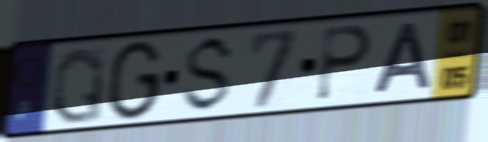7: (247, 26, 300, 112)
A: (370, 19, 434, 97)
G: (104, 38, 165, 124)
P: (313, 23, 375, 104)
Q: (49, 44, 107, 127)
S: (178, 32, 239, 116)
